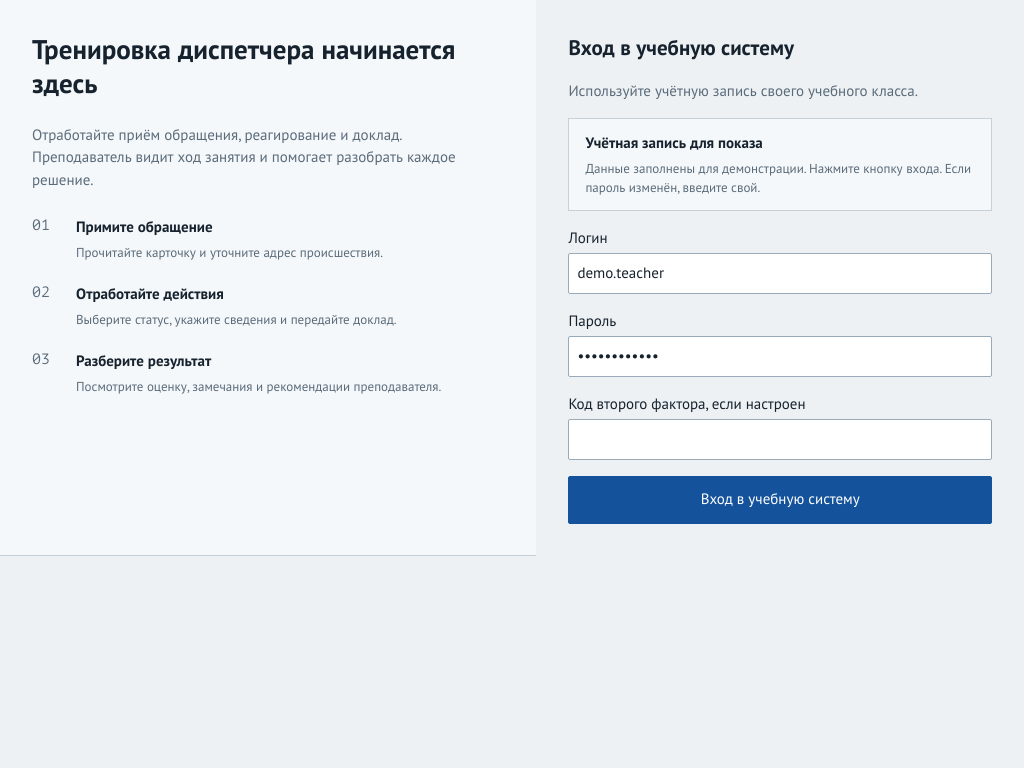
Test: uses edited credentials through normal authentication and displays its failure
This screenshot has width=1024, height=768.
Type "Edited-password" into the password field labelled "Пароль" at (780, 356), box [568,336,992,376]
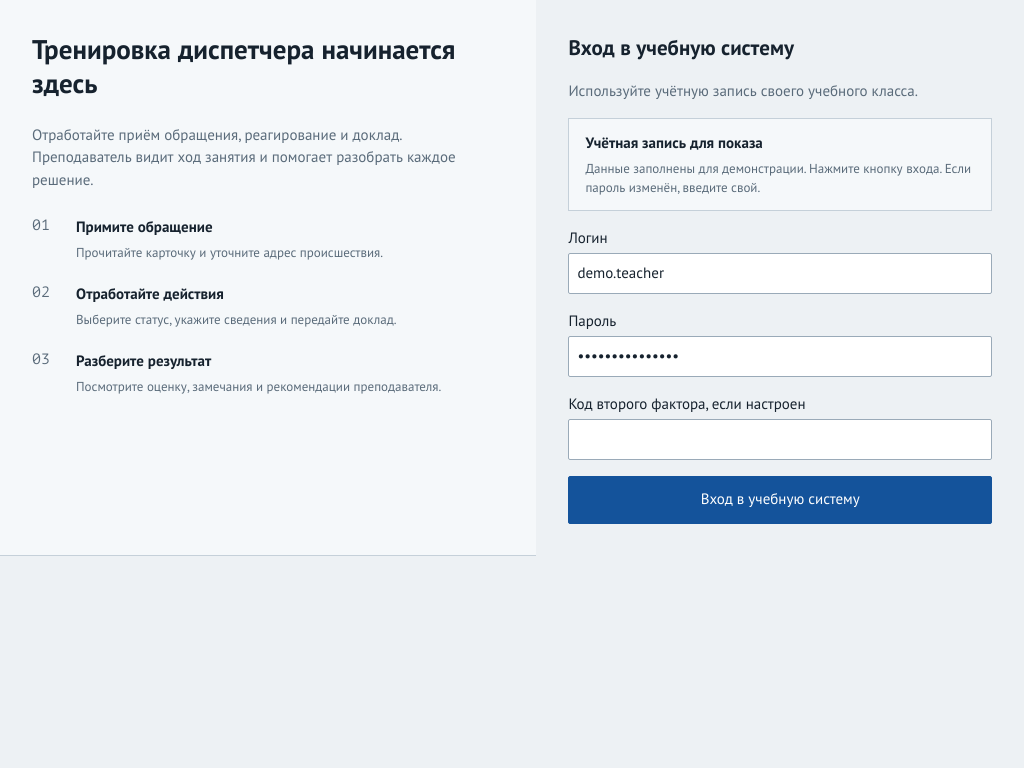
Click the button "Вход в учебную систему" at (780, 500), box [568,476,992,524]
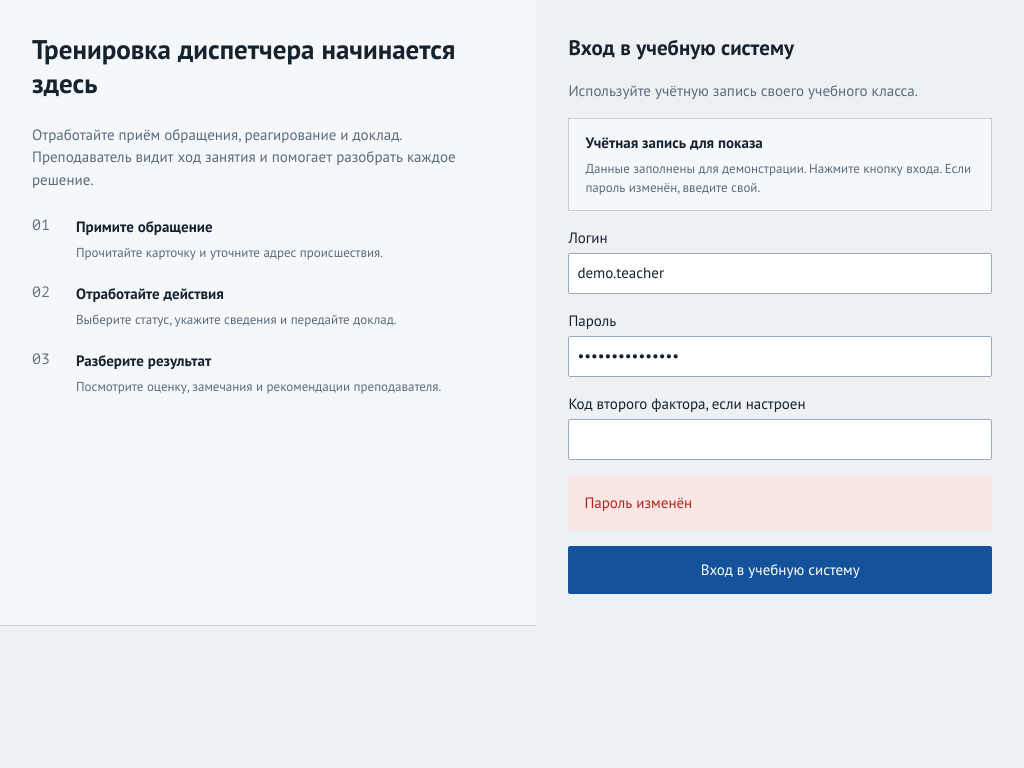
Expected: the button "Вход в учебную систему" is enabled, [568,546,992,594]
Result: the message reads "Пароль изменён" at [584,492,692,512]
